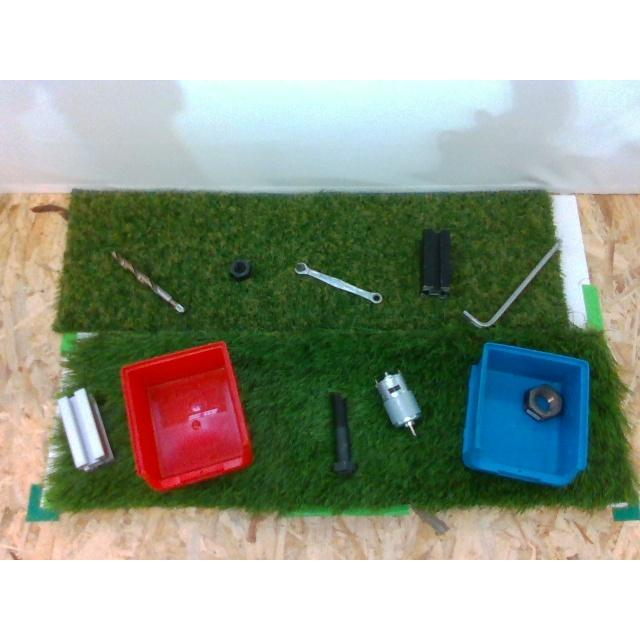AllenKey: (464, 240, 560, 328)
Drill: (112, 251, 184, 313)
M20: (228, 260, 252, 280)
M20_100: (330, 393, 356, 475)
M30: (524, 384, 562, 421)
Motor2: (376, 372, 420, 436)
S40_40_B: (421, 229, 451, 297)
S40_40_G: (57, 388, 113, 470)
Wrench: (294, 262, 382, 302)
container_box_blue: (462, 342, 590, 486)
container_box_red: (120, 341, 252, 491)
